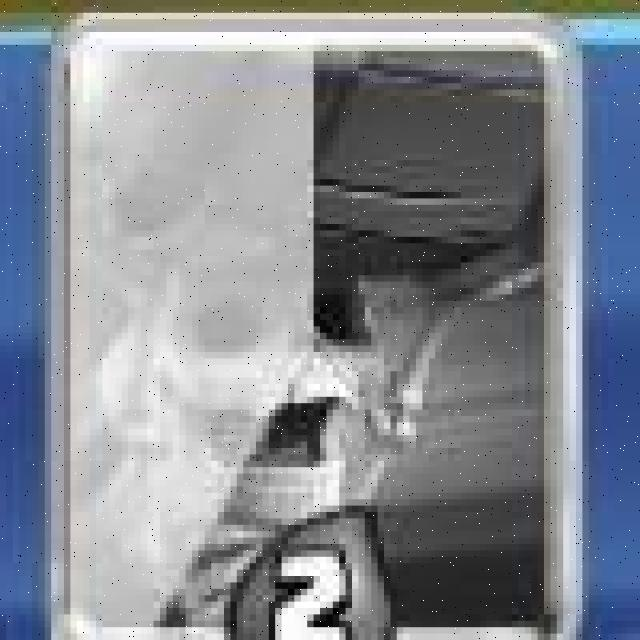Wall_Breakers: (48, 12, 586, 640)
